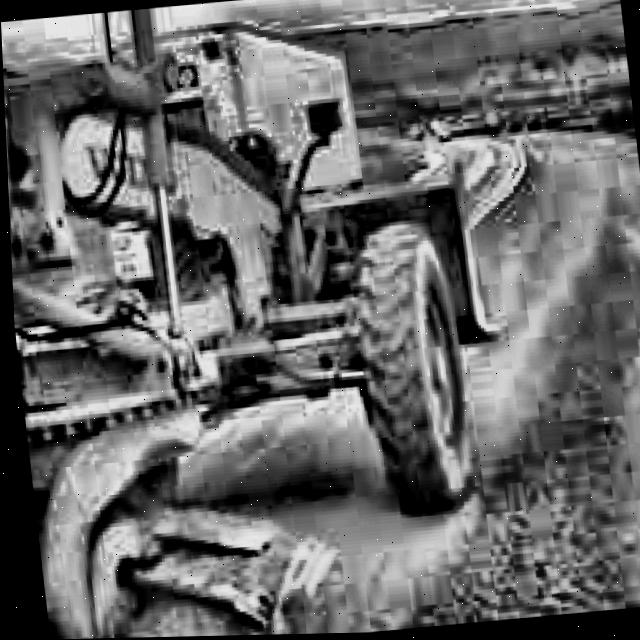buldozerpayloadergrader: (0, 0, 555, 640)
